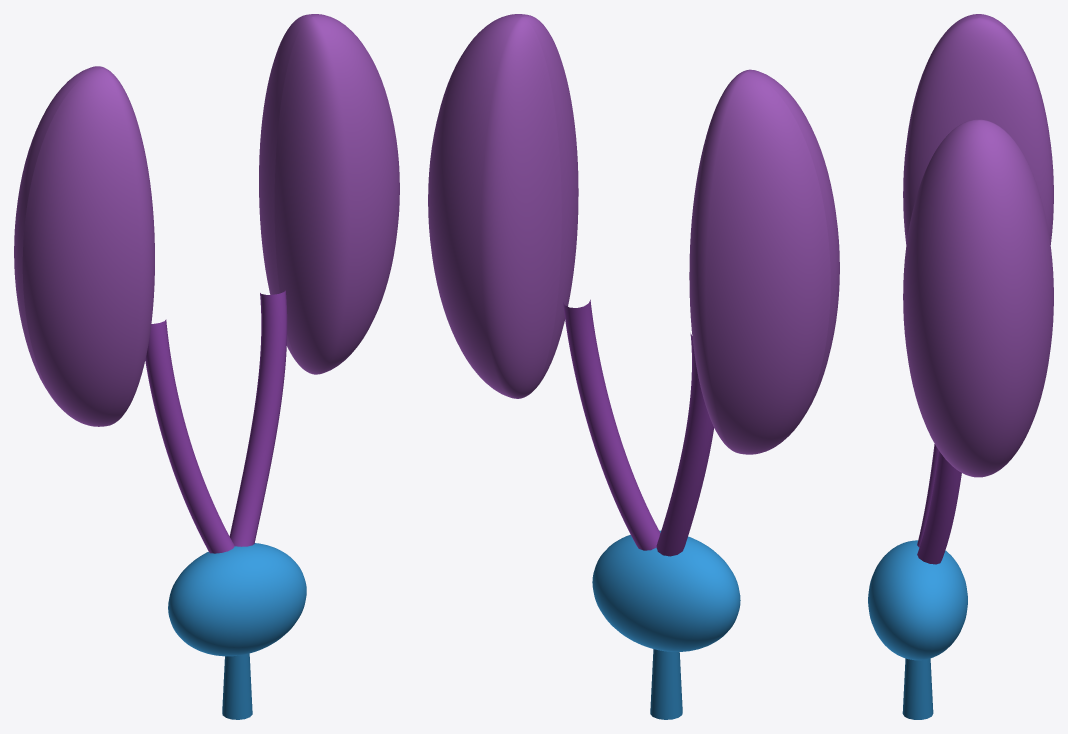
The model's file is excretory.glb.
3 views of the same model, side by side, from view 1: azimuth 30°, elevation 25°; view 2: azimuth 150°, elevation 25°; view 3: azimuth 270°, elevation 25° (orthographic). The views are drawn at different scales.
Parts seen in each view (by area): view 1: LeftKidney, RightKidney, Bladder, Ureter_R, Ureter_L, Urethra; view 2: LeftKidney, RightKidney, Bladder, Ureter_R, Ureter_L, Urethra; view 3: RightKidney, LeftKidney, Bladder, Ureter_R, Urethra, Ureter_L.
Part boxes in pixels (x1,y1,x2,y2): LeftKidney: [14, 66, 154, 426]; RightKidney: [259, 14, 399, 374]; Bladder: [168, 543, 306, 656]; Ureter_R: [229, 290, 287, 546]; Ureter_L: [145, 319, 234, 553]; Urethra: [222, 653, 252, 719]; LeftKidney: [689, 69, 839, 454]; RightKidney: [428, 14, 578, 398]; Bladder: [592, 530, 740, 651]; Ureter_R: [563, 299, 660, 550]; Ureter_L: [656, 333, 713, 556]; Urethra: [650, 649, 682, 719]; RightKidney: [903, 119, 1053, 477]; LeftKidney: [903, 14, 1053, 244]; Bladder: [868, 540, 967, 660]; Ureter_R: [917, 451, 961, 564]; Urethra: [902, 658, 933, 719]; Ureter_L: [917, 444, 938, 547].
Bounding box in the file's own units: 1.05 × 1.76 × 0.461.
